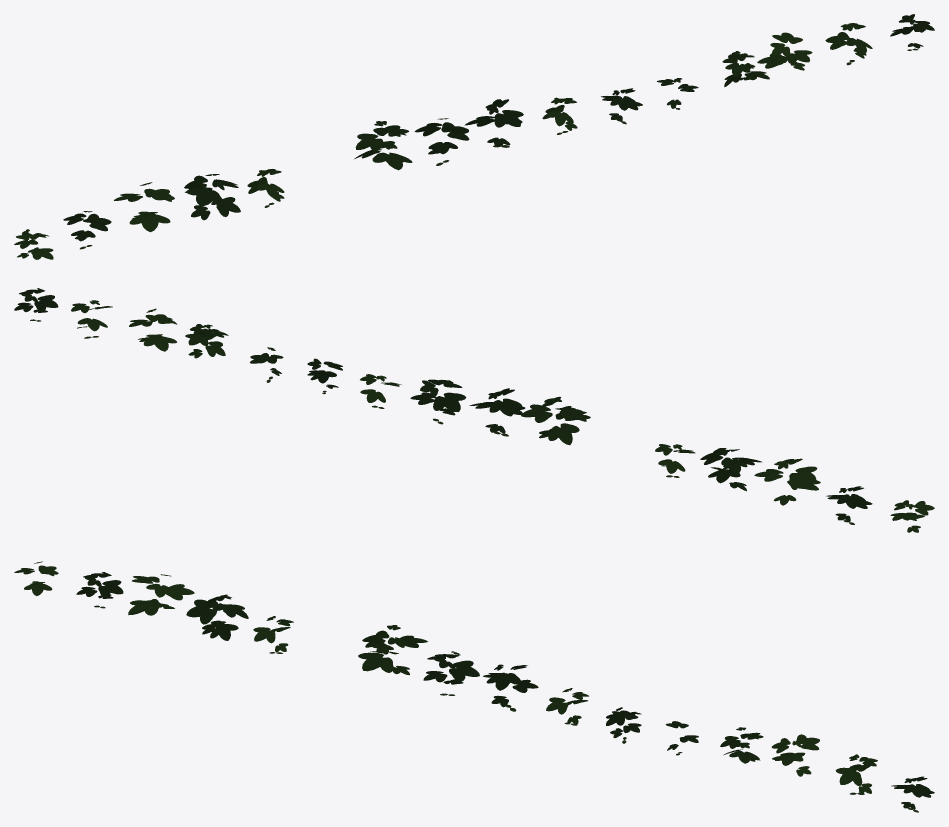
File: ROW_06_SEG0_foliage.dae
The picture shows the model from 3 angles, top to bottom: view 1: azimuth 30°, elevation 25°; view 2: azimuth 150°, elevation 25°; view 3: azimuth 330°, elevation 25°; orthographic projection.
Visible parts, largest first — view 1: ROW_06_SEG0_foliage; view 2: ROW_06_SEG0_foliage; view 3: ROW_06_SEG0_foliage.
Part boxes in pixels (bbox=[...]): ROW_06_SEG0_foliage: bbox=[14, 14, 934, 259]; ROW_06_SEG0_foliage: bbox=[14, 288, 934, 532]; ROW_06_SEG0_foliage: bbox=[14, 561, 934, 812].
Size of the model in its own units: 4.77 by 0.3349 by 0.2711.
